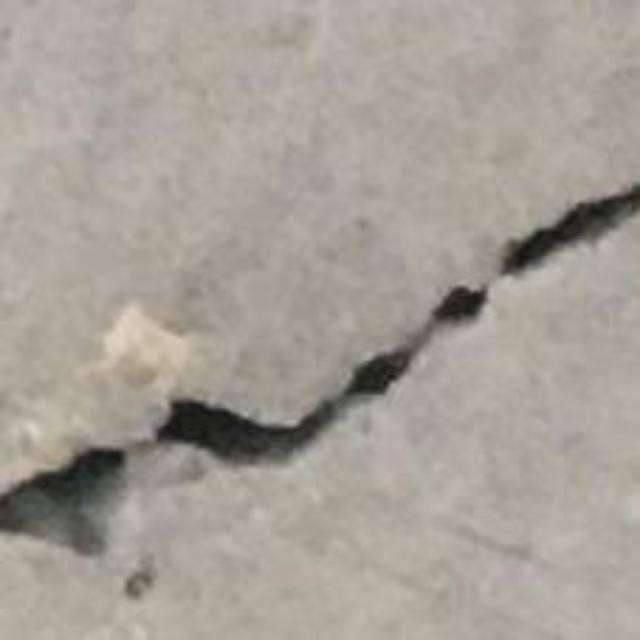crack: (0, 282, 491, 570), (499, 183, 637, 273), (124, 558, 149, 592)
peeling plaster: (101, 304, 189, 383)
